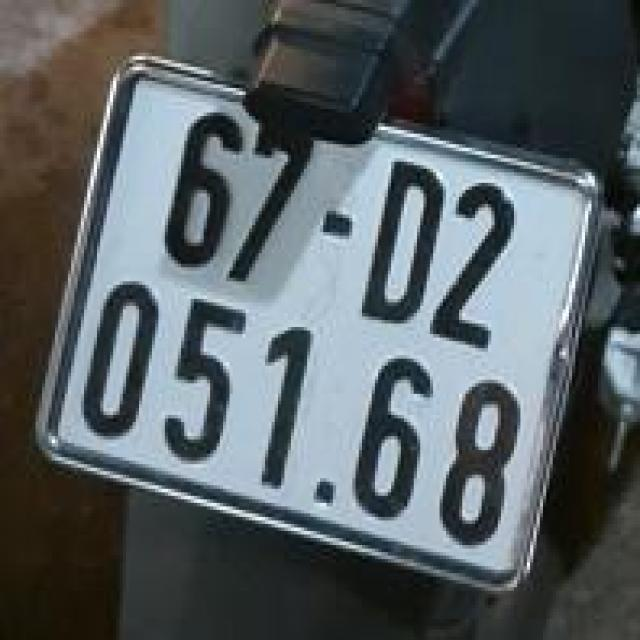0: (71, 269, 170, 450)
1: (235, 313, 323, 497)
2: (421, 171, 532, 364)
5: (149, 289, 254, 476)
6: (340, 341, 443, 534), (152, 103, 254, 286)
7: (214, 115, 323, 303)
8: (430, 369, 527, 557)
D: (350, 148, 455, 344)
